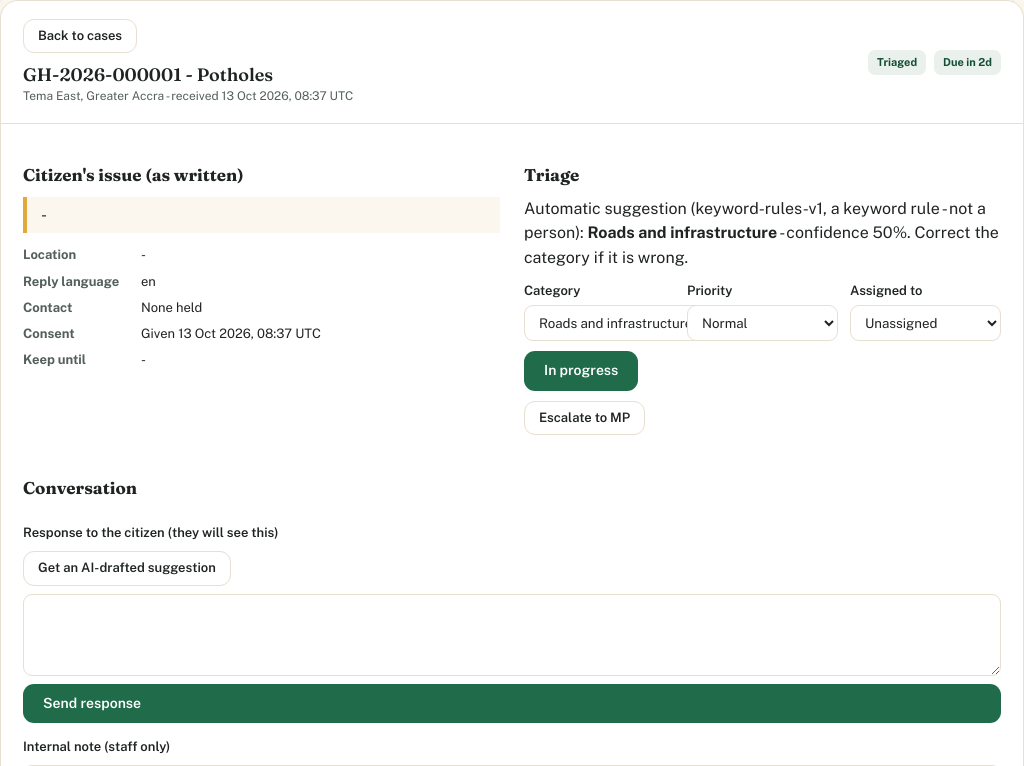
Test: AI-drafted case response › fills the reply box from the draft when an AI provider is configured
What coordinates should you click on to do the following:
click the button "Get an AI-drafted suggestion"
I would click on:
 (127, 568)
Its box is left=23, top=551, right=231, bottom=586.
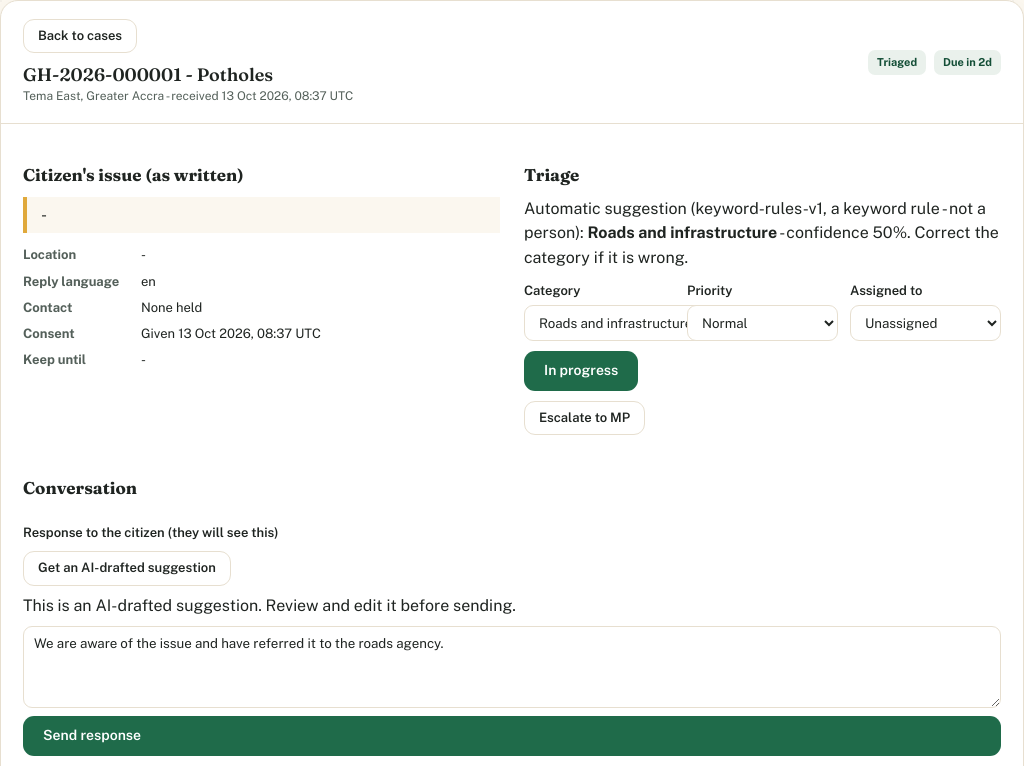
Expected: the text box showing "We are aware of the issue" is shown, left=23, top=626, right=1001, bottom=708
Expected: the text "This is an AI-drafted suggestion. Review and edit it before sending." is shown, left=23, top=596, right=516, bottom=615
